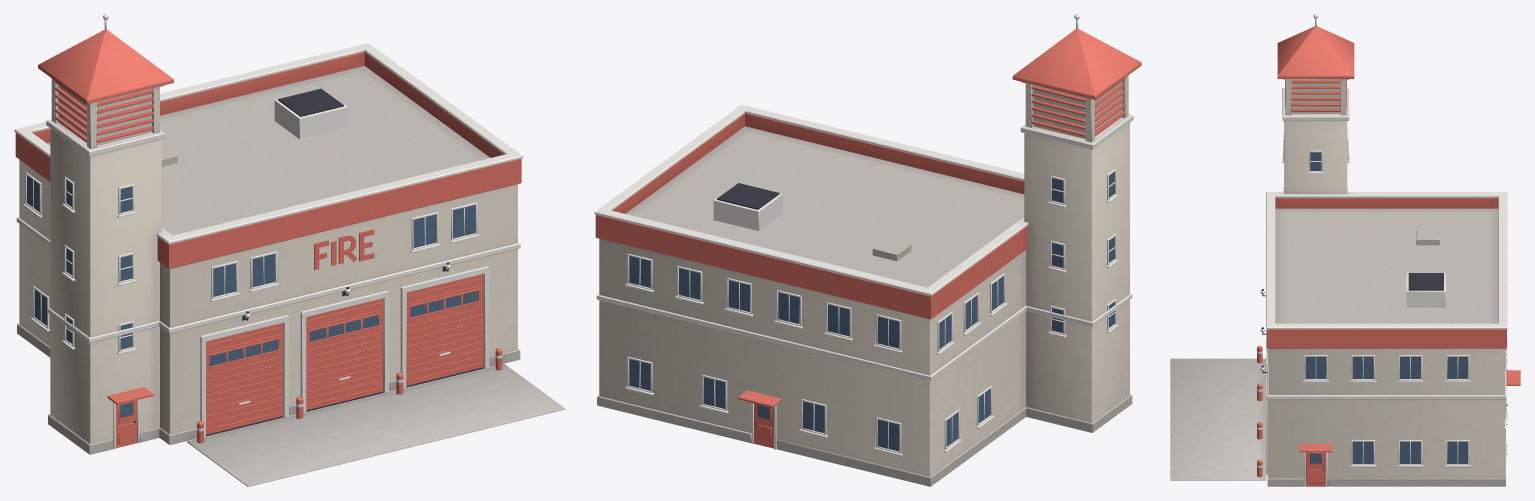
Rendered from fire-station-grab3d.glb.
3 renders of one model, left to right at view 1: azimuth 30°, elevation 25°; view 2: azimuth 150°, elevation 25°; view 3: azimuth 270°, elevation 25°, orthographic. The views are drawn at different scales.
Parts seen in each view (by area): view 1: fire-station_body, fire-station_bay_doors, fire-station_details, fire-station_sign; view 2: fire-station_body, fire-station_details; view 3: fire-station_body, fire-station_details, fire-station_bay_doors.
Boxes of the visible parts, x1,y1,x2,y2 form: fire-station_body: [14, 14, 565, 486]; fire-station_bay_doors: [200, 262, 489, 436]; fire-station_details: [23, 88, 502, 449]; fire-station_sign: [314, 229, 374, 270]; fire-station_body: [594, 14, 1141, 486]; fire-station_details: [625, 169, 1118, 456]; fire-station_body: [1170, 14, 1507, 486]; fire-station_details: [1257, 134, 1520, 486]; fire-station_bay_doors: [1260, 289, 1268, 474].
Size of the model in its own units: 20.35 by 18.28 by 17.8.
11 materials, 1 textured.
